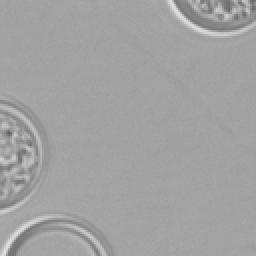picoshell: (0, 96, 46, 214), (0, 214, 112, 254), (170, 0, 254, 34)
